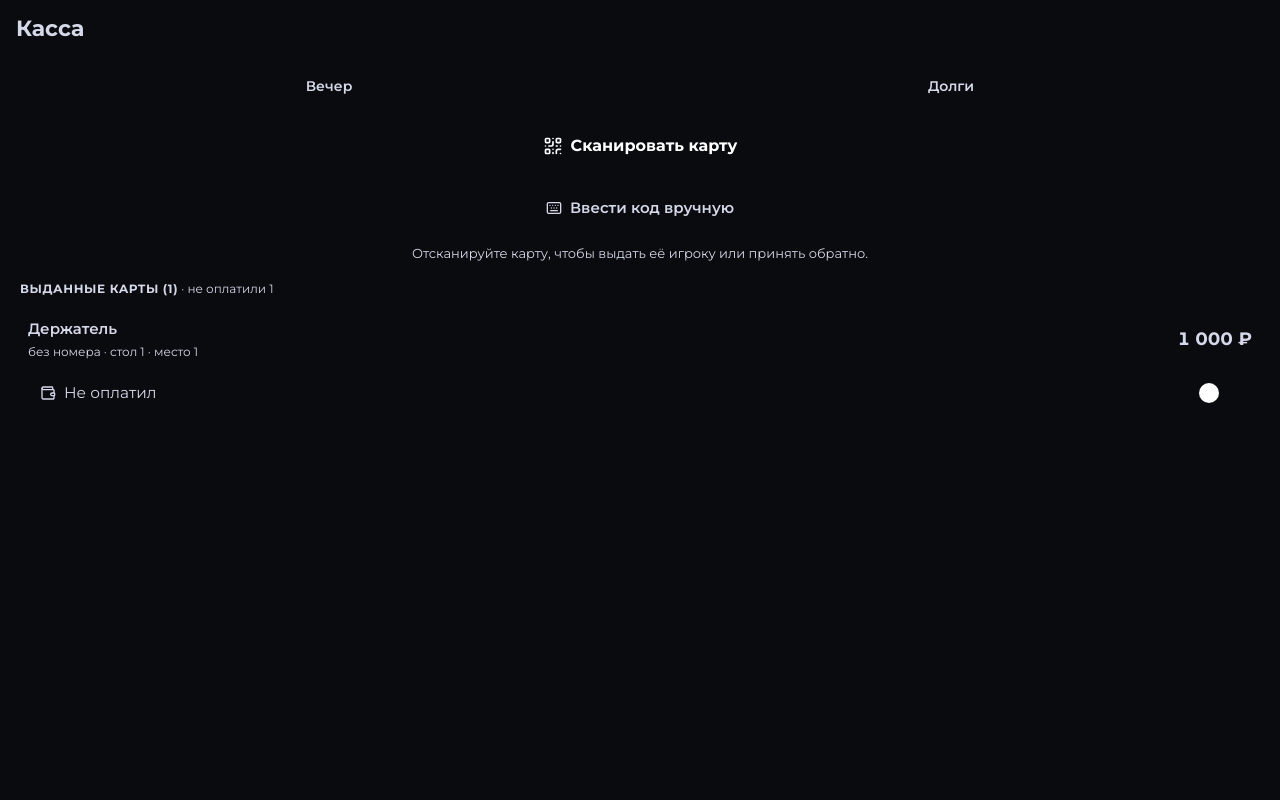
Scenario: a scanned card's bill › lets the desk go back to the cashier without taking the card
Step 1. Click the button "Ввести код вручную" → (640, 208), box [16,184,1264,232]
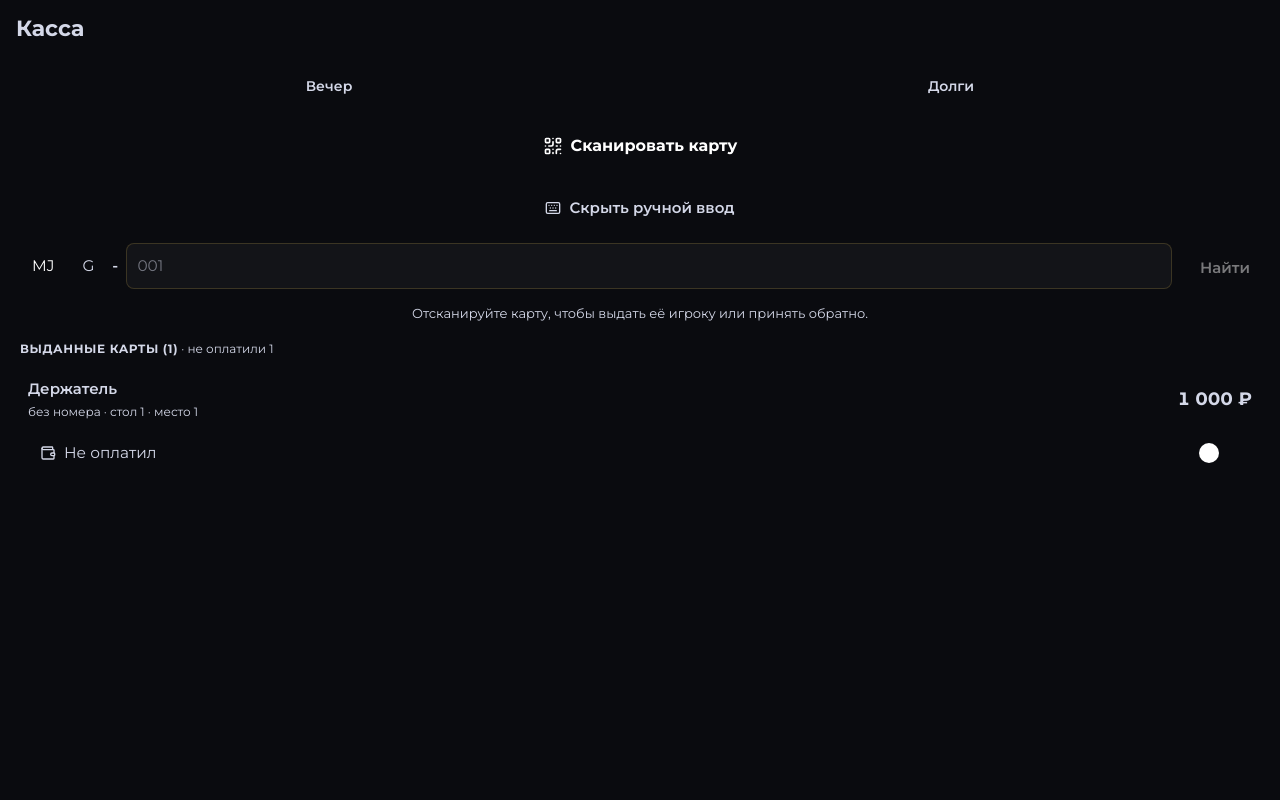
Step 2. Type "5" into the field with placeholder "001" → (649, 266), box [126,243,1172,289]
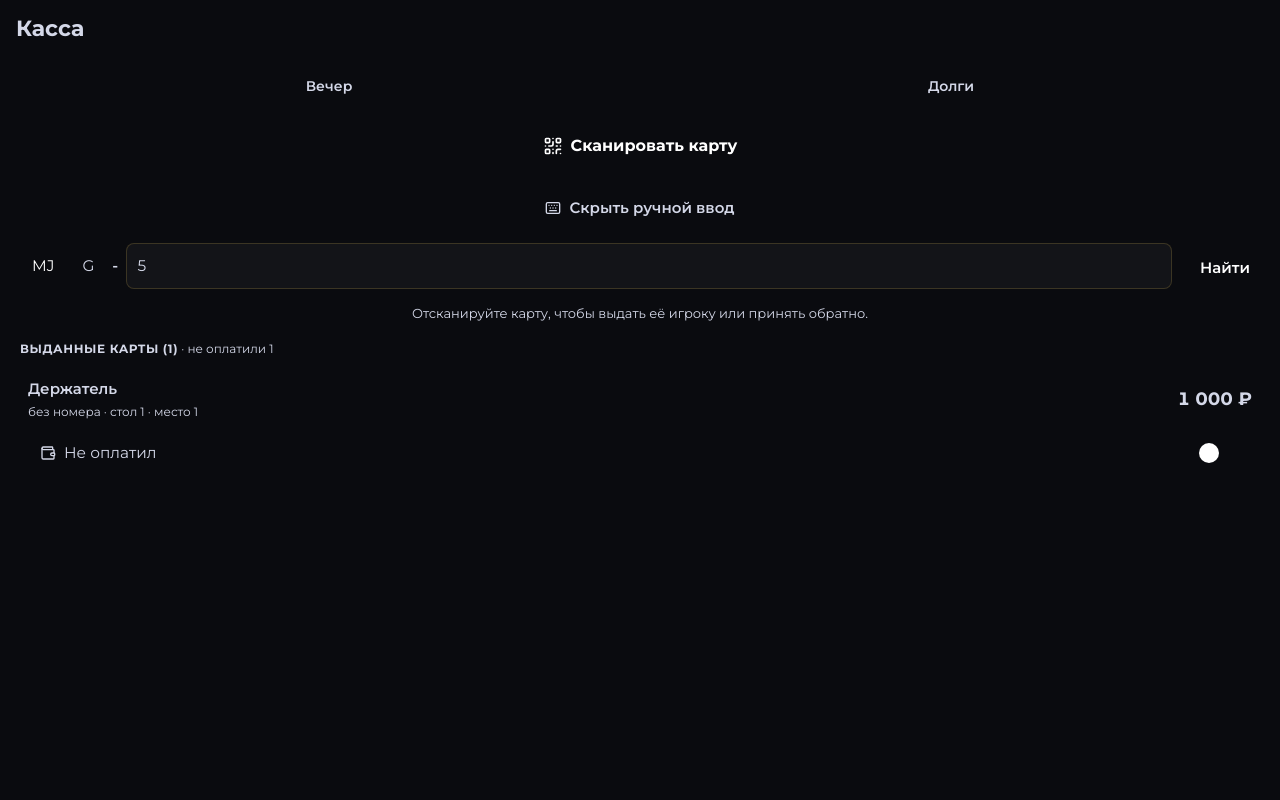
Step 3. Click the button "Найти" → (1225, 268), box [1186,244,1264,292]
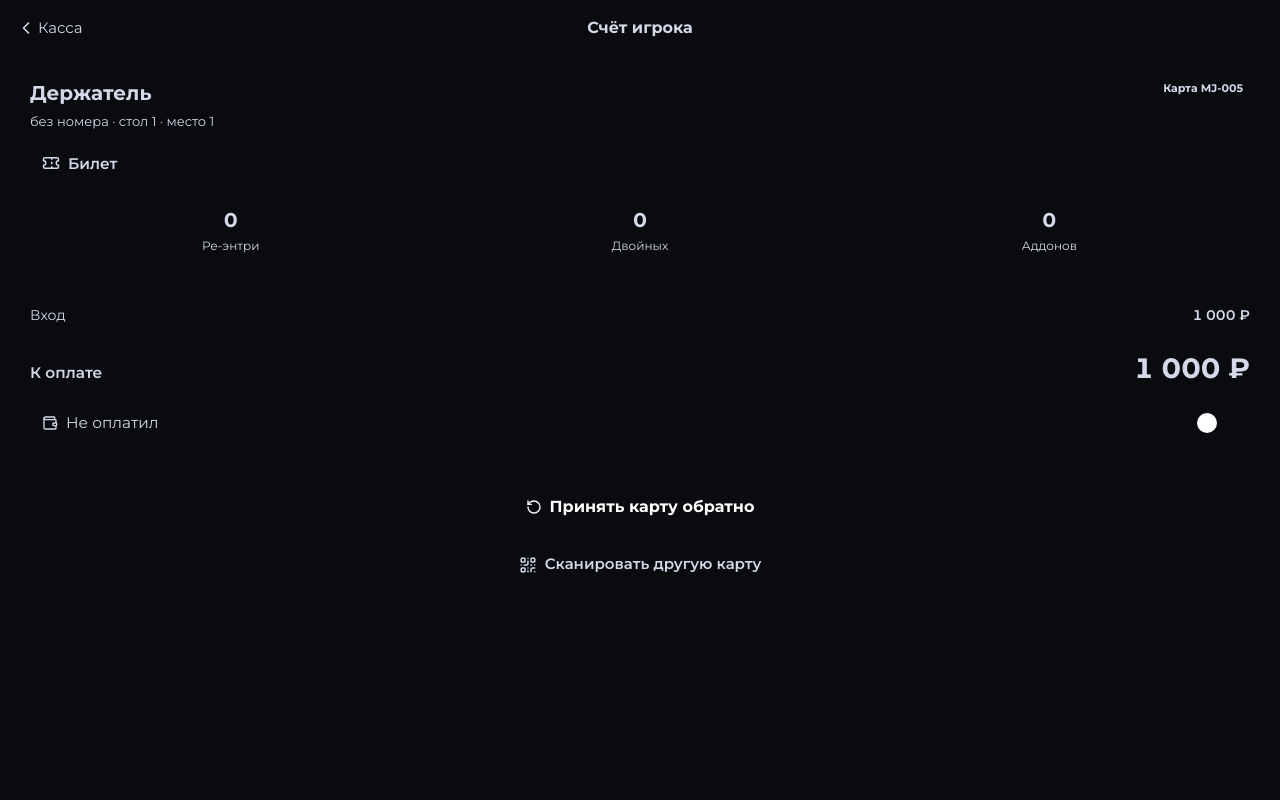
Expected: the button "Принять карту обратно" is shown, [12,480,1268,532]
Step 4. Click the button "Касса" → (49, 28), box [16,6,82,50]
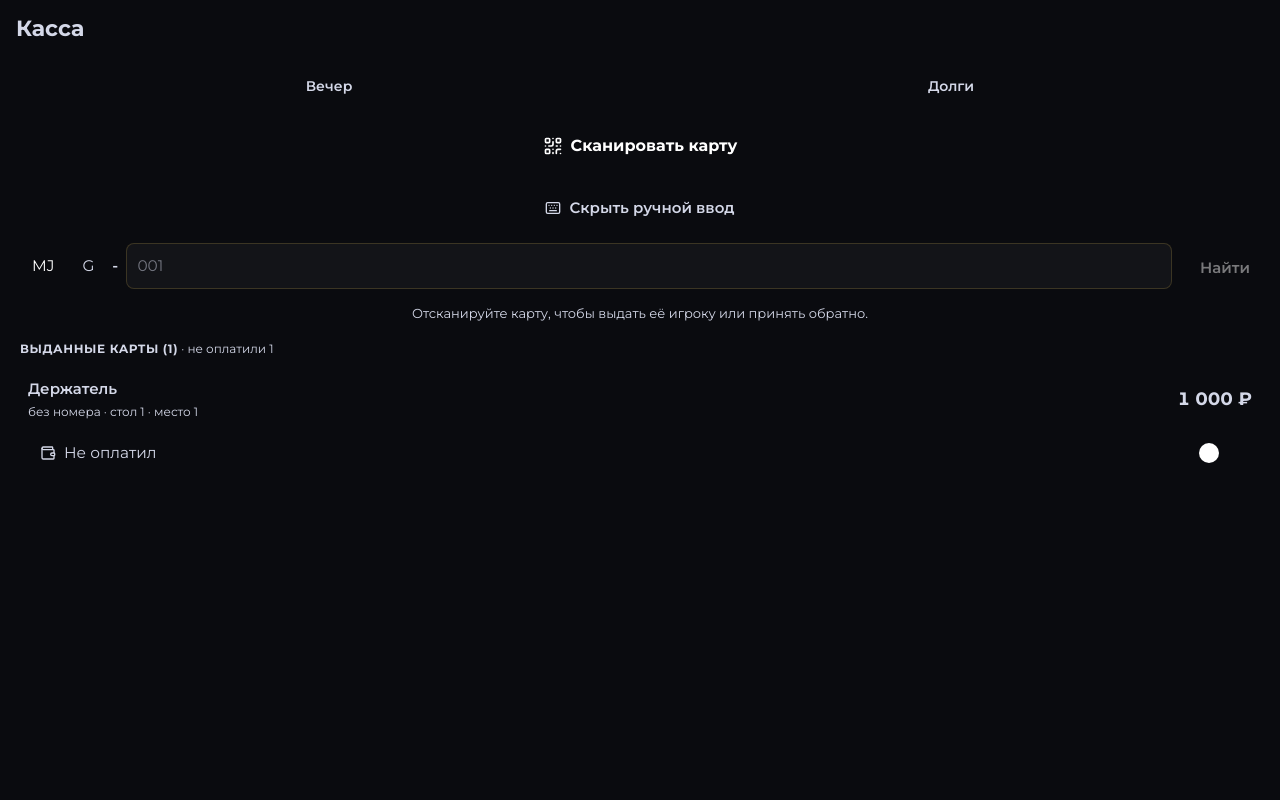
Expected: the button "Сканировать карту" is shown, [16,120,1264,172]
Expected: the button "Принять карту обратно" is gone
